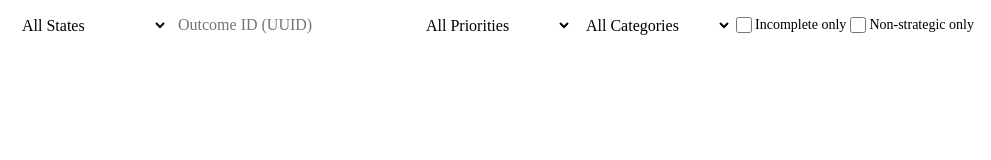
TeamDashboardFiltersPanel › shows validation feedback and does not apply an invalid outcome ID
The width and height of the screenshot is (991, 160).
In the field with test id "filter-outcome-id": (290, 25) x1=168 y1=8 x2=412 y2=42, type "not-a-uuid"
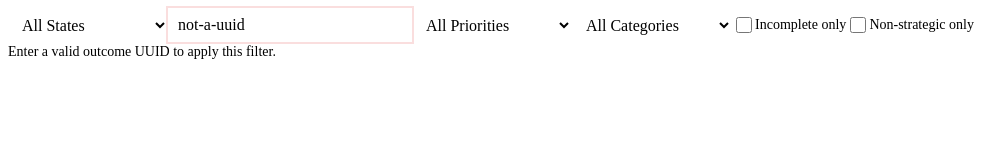
Now the text "Enter a valid outcome UUID to apply this filter." is shown, box x1=8 y1=44 x2=276 y2=59
